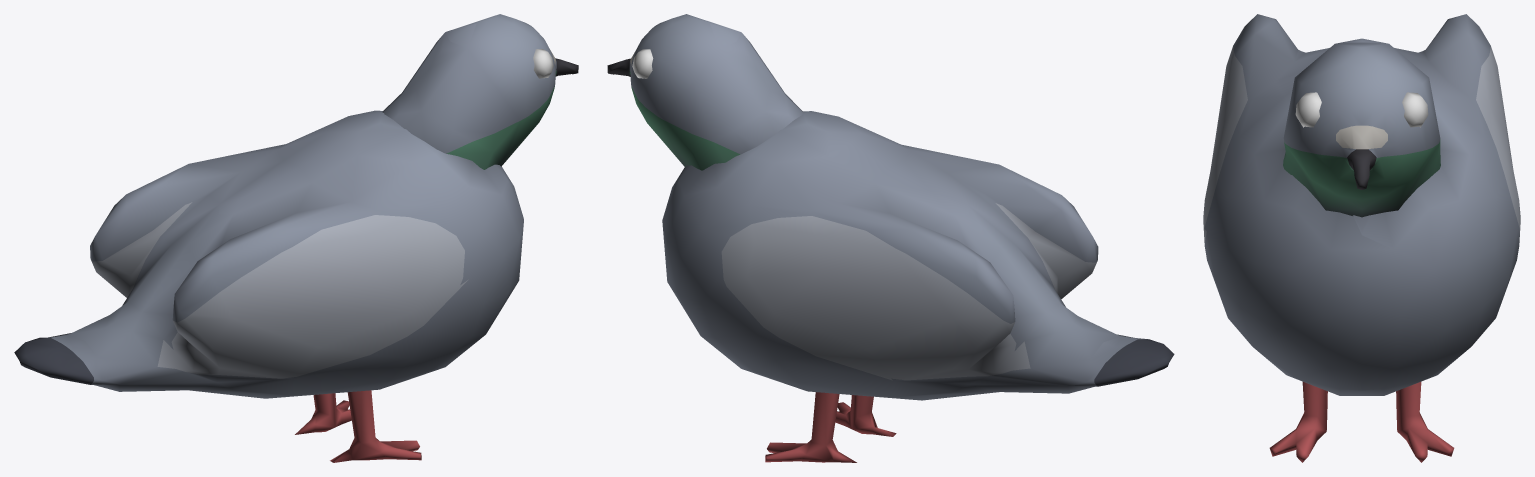
File: Pigeon.fbx
The picture shows the model from 3 angles, left to right: view 1: azimuth 30°, elevation 25°; view 2: azimuth 150°, elevation 25°; view 3: azimuth 270°, elevation 25°; orthographic projection. The views are drawn at different scales.
Parts seen in each view (by area): view 1: Body, Head; view 2: Body, Head; view 3: Body, Head.
Boxes of the visible parts, bbox=[...] form: Body: bbox=[14, 110, 523, 462]; Head: bbox=[382, 14, 578, 169]; Body: bbox=[662, 111, 1174, 462]; Head: bbox=[607, 14, 803, 170]; Body: bbox=[1203, 14, 1520, 462]; Head: bbox=[1283, 38, 1440, 217].
Bounding box in the file's own units: 0.3966 × 0.2655 × 0.1609.
